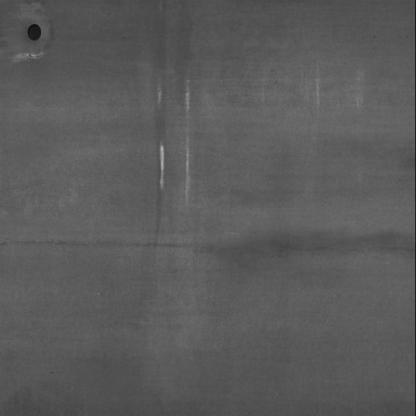punching_hole: (23, 21, 49, 41)
silk_spot: (11, 234, 408, 254)
